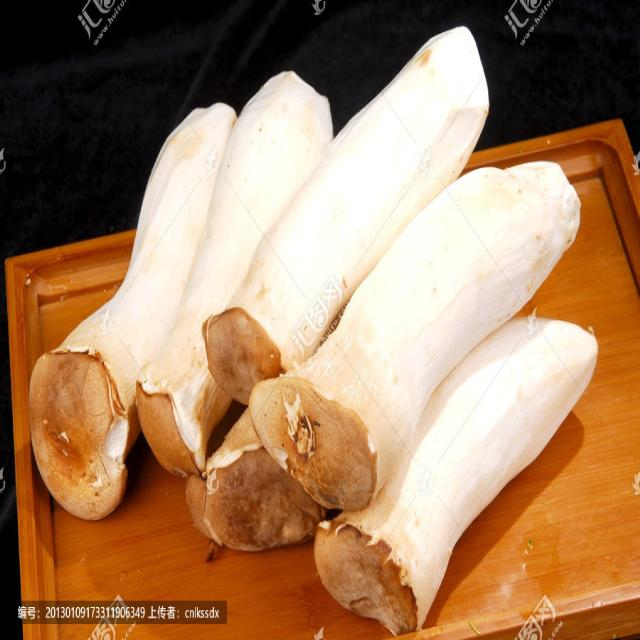Pleurotus eryngii: (245, 160, 620, 500), (27, 27, 236, 501), (316, 323, 606, 626)
